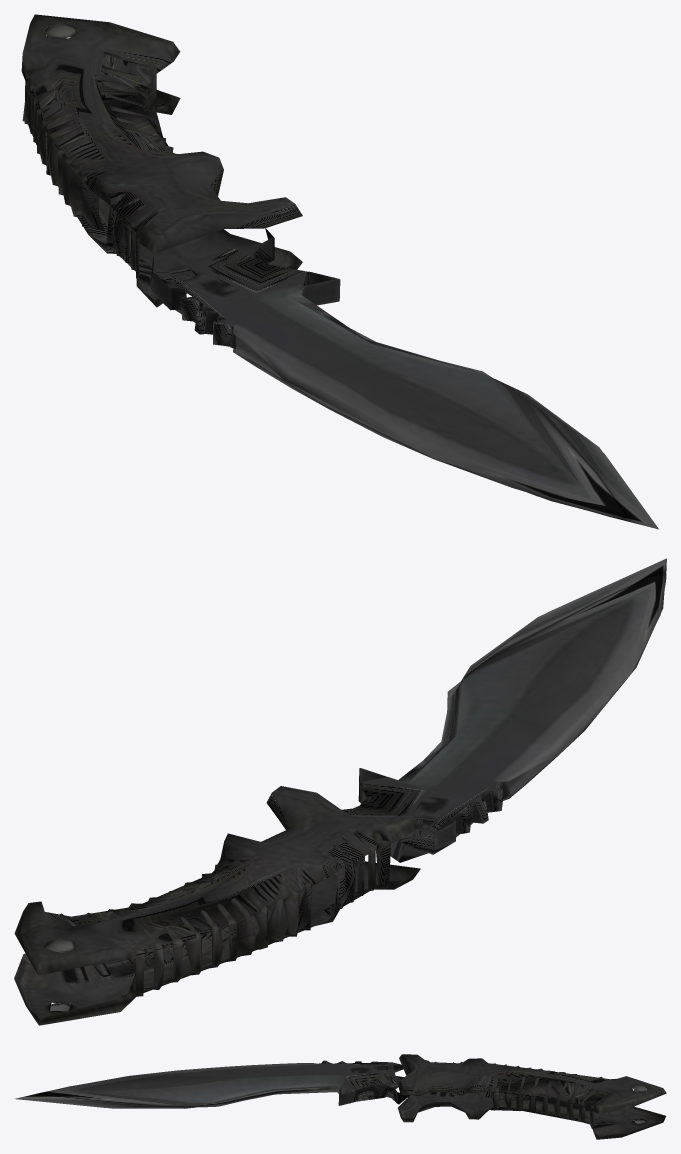
The model's file is p_knife.glb.
The picture shows the model from 3 angles, top to bottom: view 1: azimuth 30°, elevation 25°; view 2: azimuth 150°, elevation 25°; view 3: azimuth 270°, elevation 25°; orthographic projection. The views are drawn at different scales.
Visible parts, largest first — view 1: p_knife; view 2: p_knife; view 3: p_knife.
Part boxes in pixels (x1,y1,x2,y2): p_knife: (21, 14, 658, 529); p_knife: (14, 558, 666, 1025); p_knife: (15, 1054, 666, 1139).
Bounding box in the file's own units: 0.1116 × 0.0317 × 0.523.
Materials: 1 (1 with a texture image).
